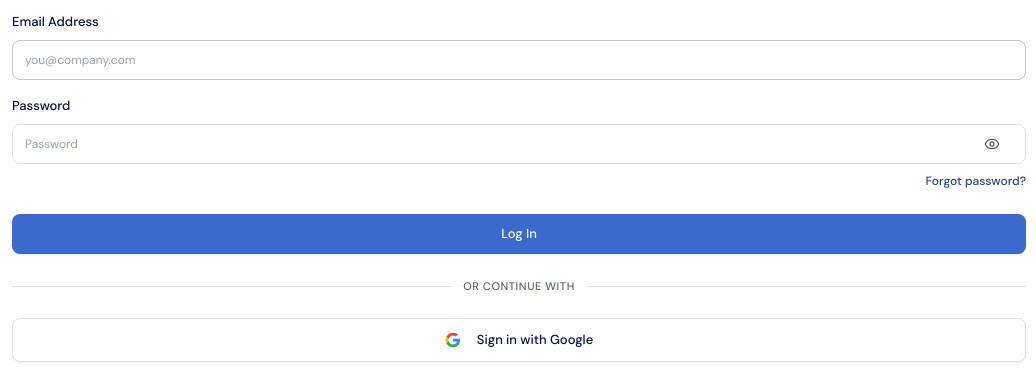
LoginForm component › disables the submit button while loading
The width and height of the screenshot is (1036, 380).
Type "user@example.com" into the field labelled "Email Address" at (519, 60), box [12,40,1026,80]
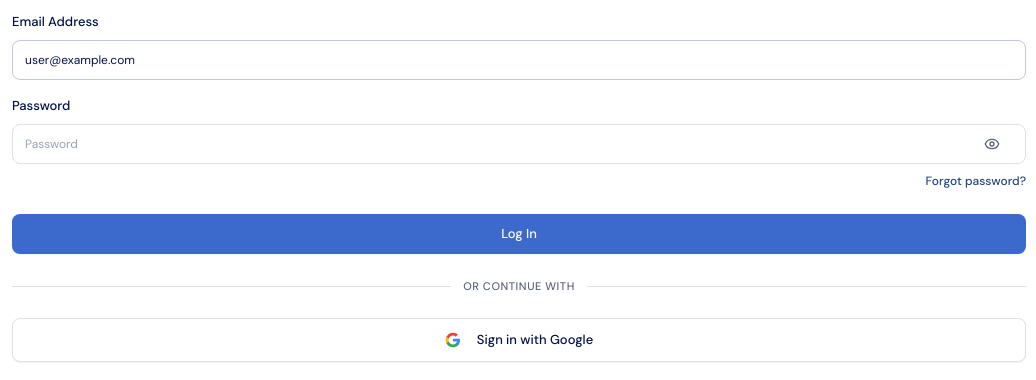
Type "password123" into the password field with placeholder "Password" at (519, 144), box [12,124,1026,164]
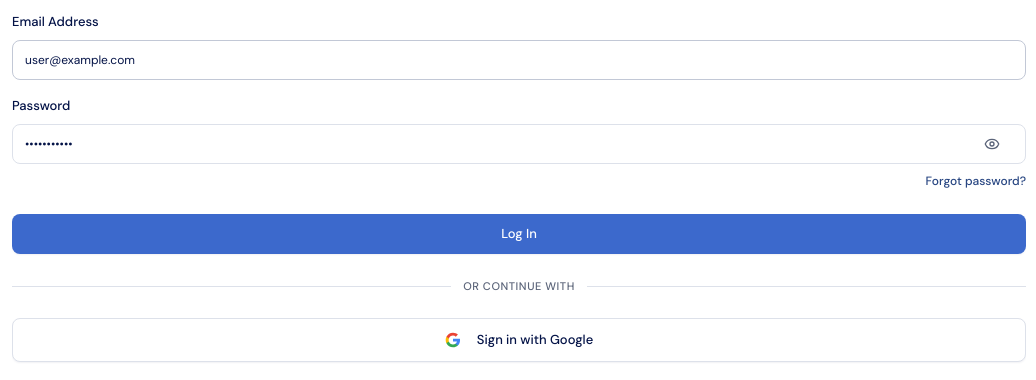
Click the button "Log In" at (519, 234), box [12,214,1026,254]
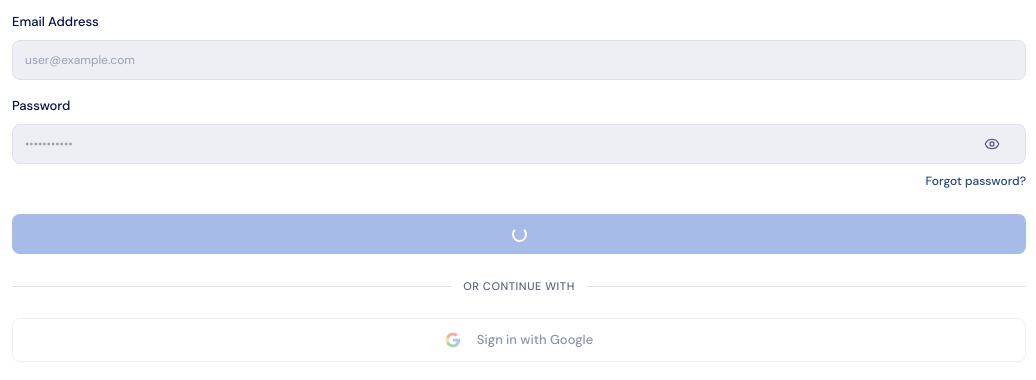
Now the button "Log In" is disabled, box [12,214,1026,254]
